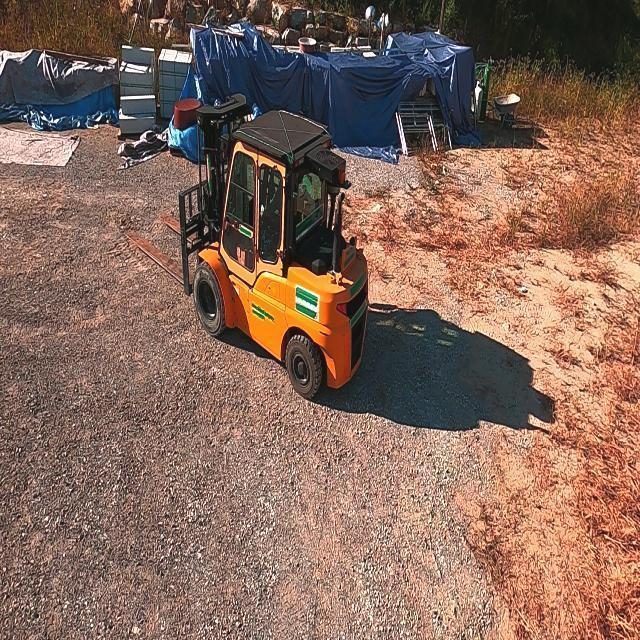forklift: (181, 93, 367, 402)
